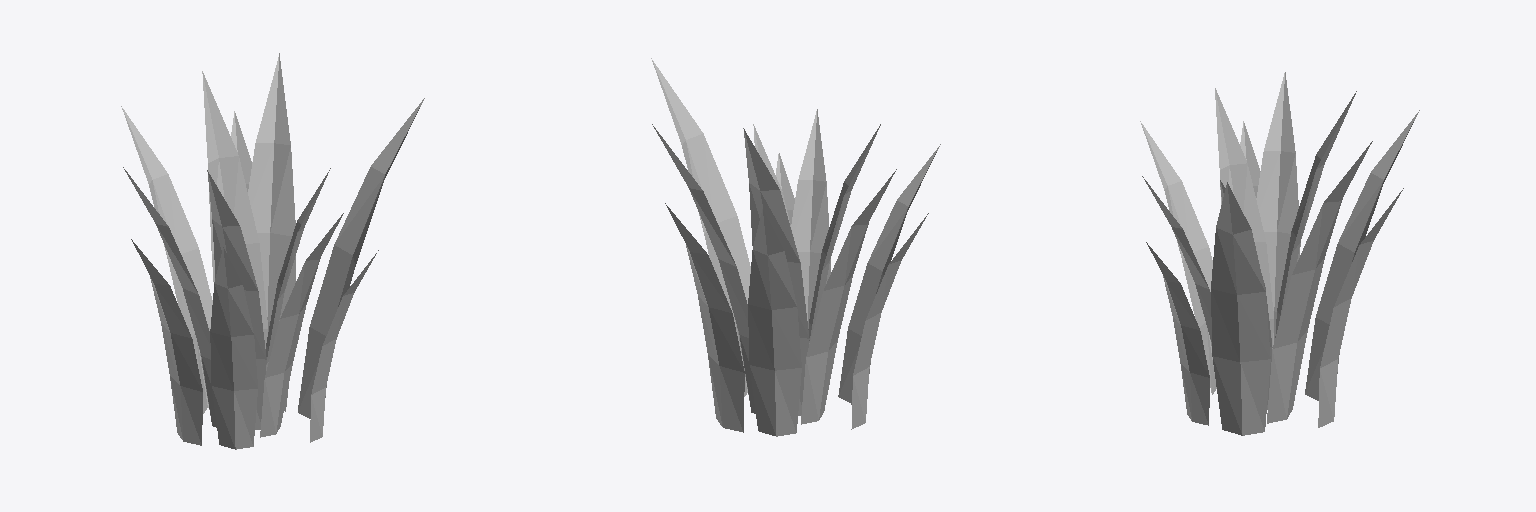
File: Grass_2_C_Singlesided_Color1.obj
The picture shows the model from 3 angles: view 1: azimuth 30°, elevation 25°; view 2: azimuth 150°, elevation 25°; view 3: azimuth 270°, elevation 25°; orthographic projection.
Visible parts, largest first — view 1: Grass_2_C_Singlesided_Color1; view 2: Grass_2_C_Singlesided_Color1; view 3: Grass_2_C_Singlesided_Color1.
Boxes of the visible parts, x1=… form: Grass_2_C_Singlesided_Color1: x1=121, y1=53, x2=424, y2=449; Grass_2_C_Singlesided_Color1: x1=651, y1=58, x2=940, y2=436; Grass_2_C_Singlesided_Color1: x1=1140, y1=72, x2=1419, y2=435.
Bounding box in the file's own units: 0.8719 × 0.9336 × 0.7383.